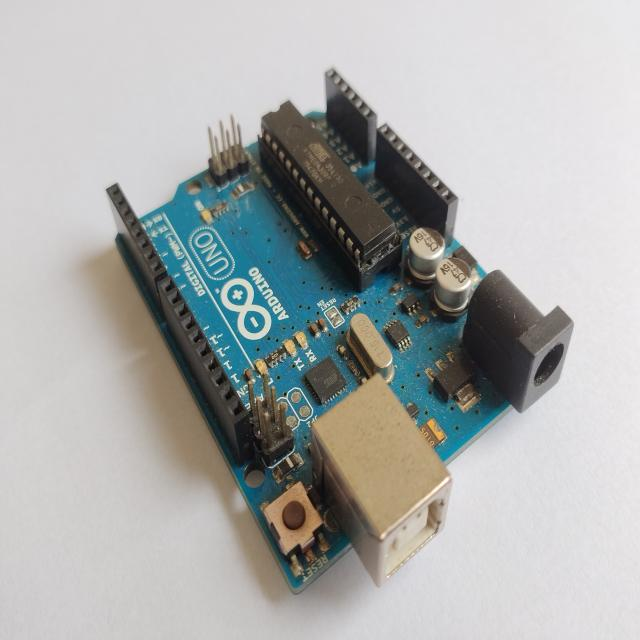arduino: (96, 82, 584, 601)
